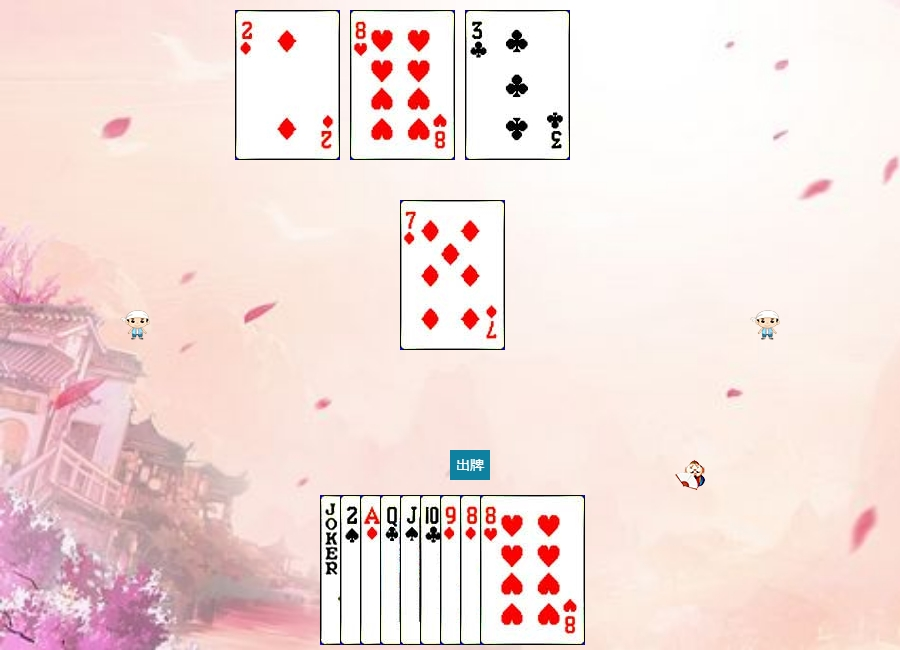10~2: (420, 495, 525, 645)
11~4: (400, 495, 505, 645)
12~2: (380, 495, 485, 645)
14~1: (360, 495, 465, 645)
15~1: (235, 10, 340, 160)
15~4: (340, 495, 445, 645)
17~3: (320, 495, 425, 645)
3~2: (465, 10, 570, 160)
7~1: (400, 200, 505, 350)
8~1: (460, 495, 565, 645)
8~3: (350, 10, 455, 160), (480, 495, 585, 645)
9~1: (440, 495, 545, 645)
